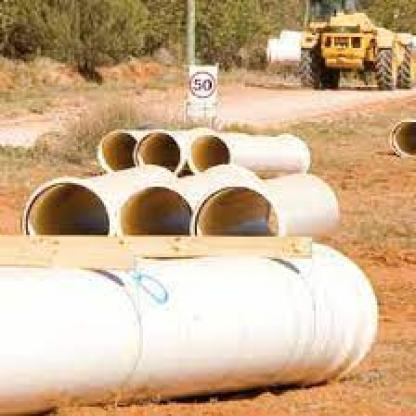PVC: (0, 241, 378, 414), (112, 163, 262, 237), (191, 171, 346, 239), (24, 164, 170, 234), (185, 132, 315, 177), (131, 125, 224, 175), (94, 129, 176, 172), (390, 109, 414, 162)
